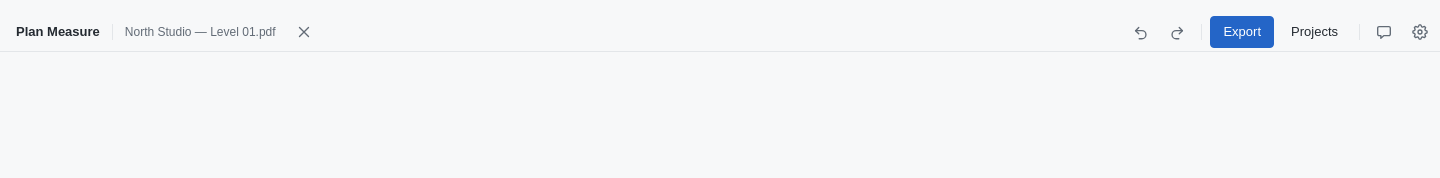
AppBar › opens Feedback options with the discussion and existing issue templates
Click the button named "Feedback".
click(1384, 32)  # box [1368, 16, 1400, 48]
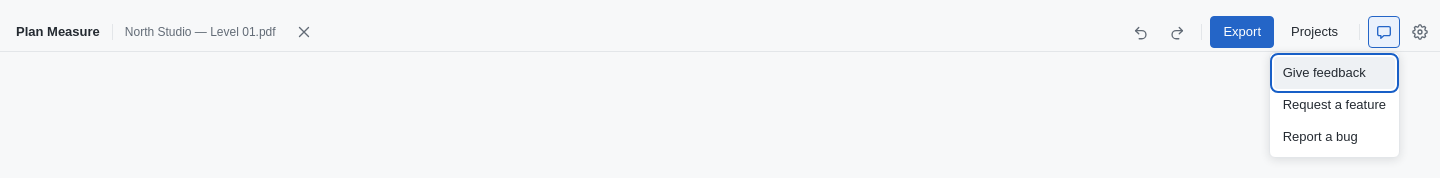
Expected: the button named "Feedback" is expanded, [1368, 16, 1400, 48]
